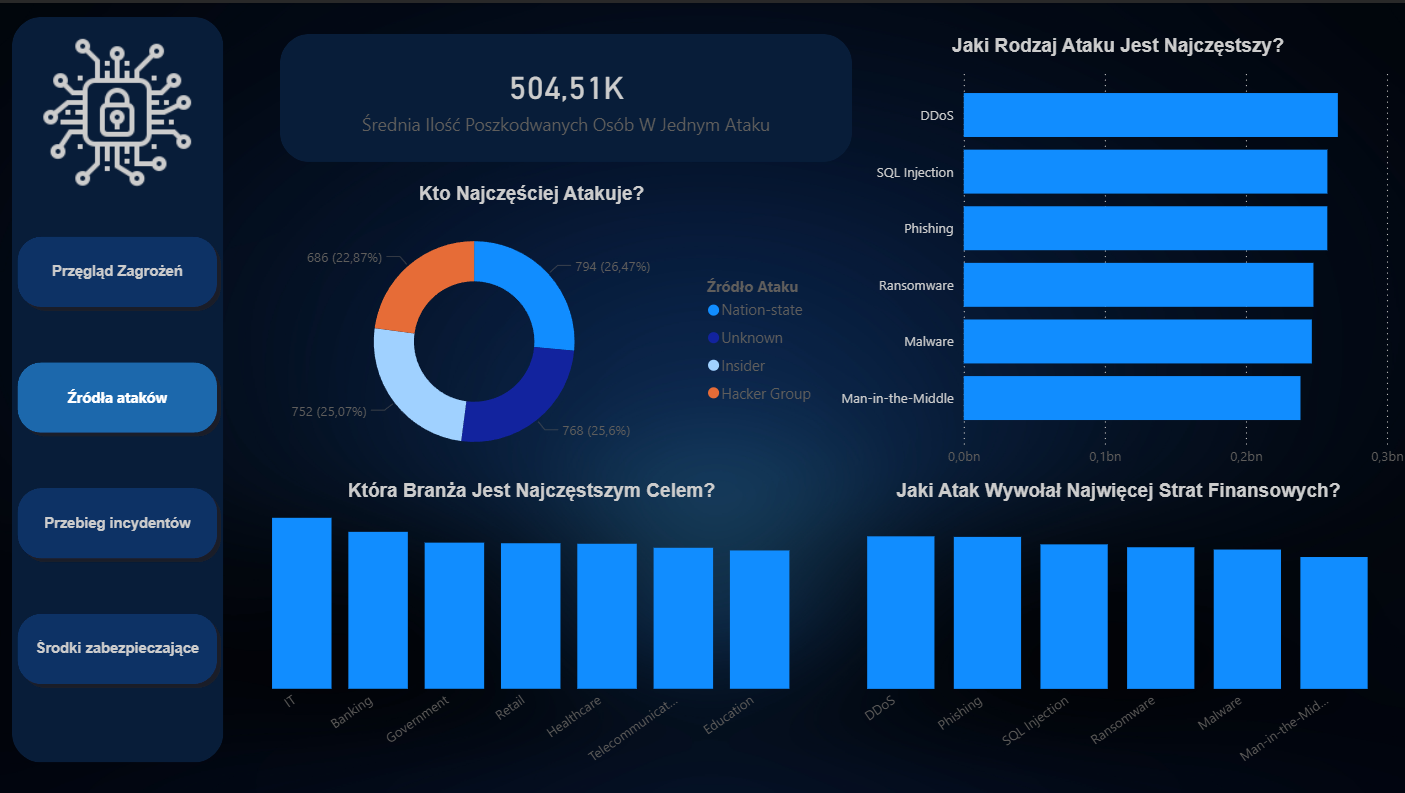

This screenshot's page, from the dashboard's own definition file:
{"tool":"powerbi","page":{"name":"Źródła ataków","canvas":[1280,720],"ordinal":1},"visuals":[{"type":"shape","box":[255.7,28.1,518.7,116.1],"z":0},{"type":"shape","box":[12.6,12.6,191.6,676],"z":1000},{"type":"columnChart","title":"Jaki Atak Wywołał Najwięcej Strat Finansowych?","fields":{"Y":["CountNonNull(Global_Cybersecurity_Threats_2015-2024.Rodzaj ataku)"],"Category":["Global_Cybersecurity_Threats_2015-2024.Rodzaj ataku"]},"box":[751.5,431.7,528.5,270.3],"z":2000},{"type":"donutChart","title":"Kto Najczęściej Atakuje?","fields":{"Y":["CountNonNull(Global_Cybersecurity_Threats_2015-2024.Zrodlo ataku)"],"Category":["Cybersecurity.Zrodlo ataku"]},"box":[215.8,162.3,535.9,269.3],"z":3000},{"type":"columnChart","title":"Która Branża Jest Najczęstszym Celem?","fields":{"Category":["Global_Cybersecurity_Threats_2015-2024.Target"],"Y":["Sum(Global_Cybersecurity_Threats_2015-2024.Straty finannsowe w mil $)"]},"box":[215.8,431.6,535.9,270.2],"z":4000},{"type":"card","fields":{"Values":["Median(Global_Cybersecurity_Threats_2015-2024.Liczba poszkodowanych)"]},"box":[255.7,44.4,518.7,82.5],"z":5000},{"type":"image","box":[23.6,28.5,169,142.4],"z":6000},{"type":"clusteredBarChart","title":"Jaki Rodzaj Ataku Jest Najczęstszy?","fields":{"Category":["Global_Cybersecurity_Threats_2015-2024.Rodzaj ataku"],"Y":["Global_Cybersecurity_Threats_2015-2024.TotalAffectedUsers"]},"box":[751.7,28.1,527.8,400.8],"z":7000},{"type":"pageNavigator","box":[12.7,206.8,191.3,418],"z":8000}]}

Visuals, with their boxes in screenshot pixels (x1, y1, x2, y2), scaled from the page's 1280x720 canvas onto the 1405x793 screenshot:
shape: 281:31:850:159
shape: 14:14:224:758
"Jaki Atak Wywołał Najwięcej Strat Finansowych?" columnChart: 825:475:1404:773
"Kto Najczęściej Atakuje?" donutChart: 237:179:825:475
"Która Branża Jest Najczęstszym Celem?" columnChart: 237:475:825:773
card - Median(Global_Cybersecurity_Threats_2015-2024.Liczba poszkodowanych): 281:49:850:140
image: 26:31:211:188
"Jaki Rodzaj Ataku Jest Najczęstszy?" clusteredBarChart: 825:31:1404:472
pageNavigator: 14:228:224:688
